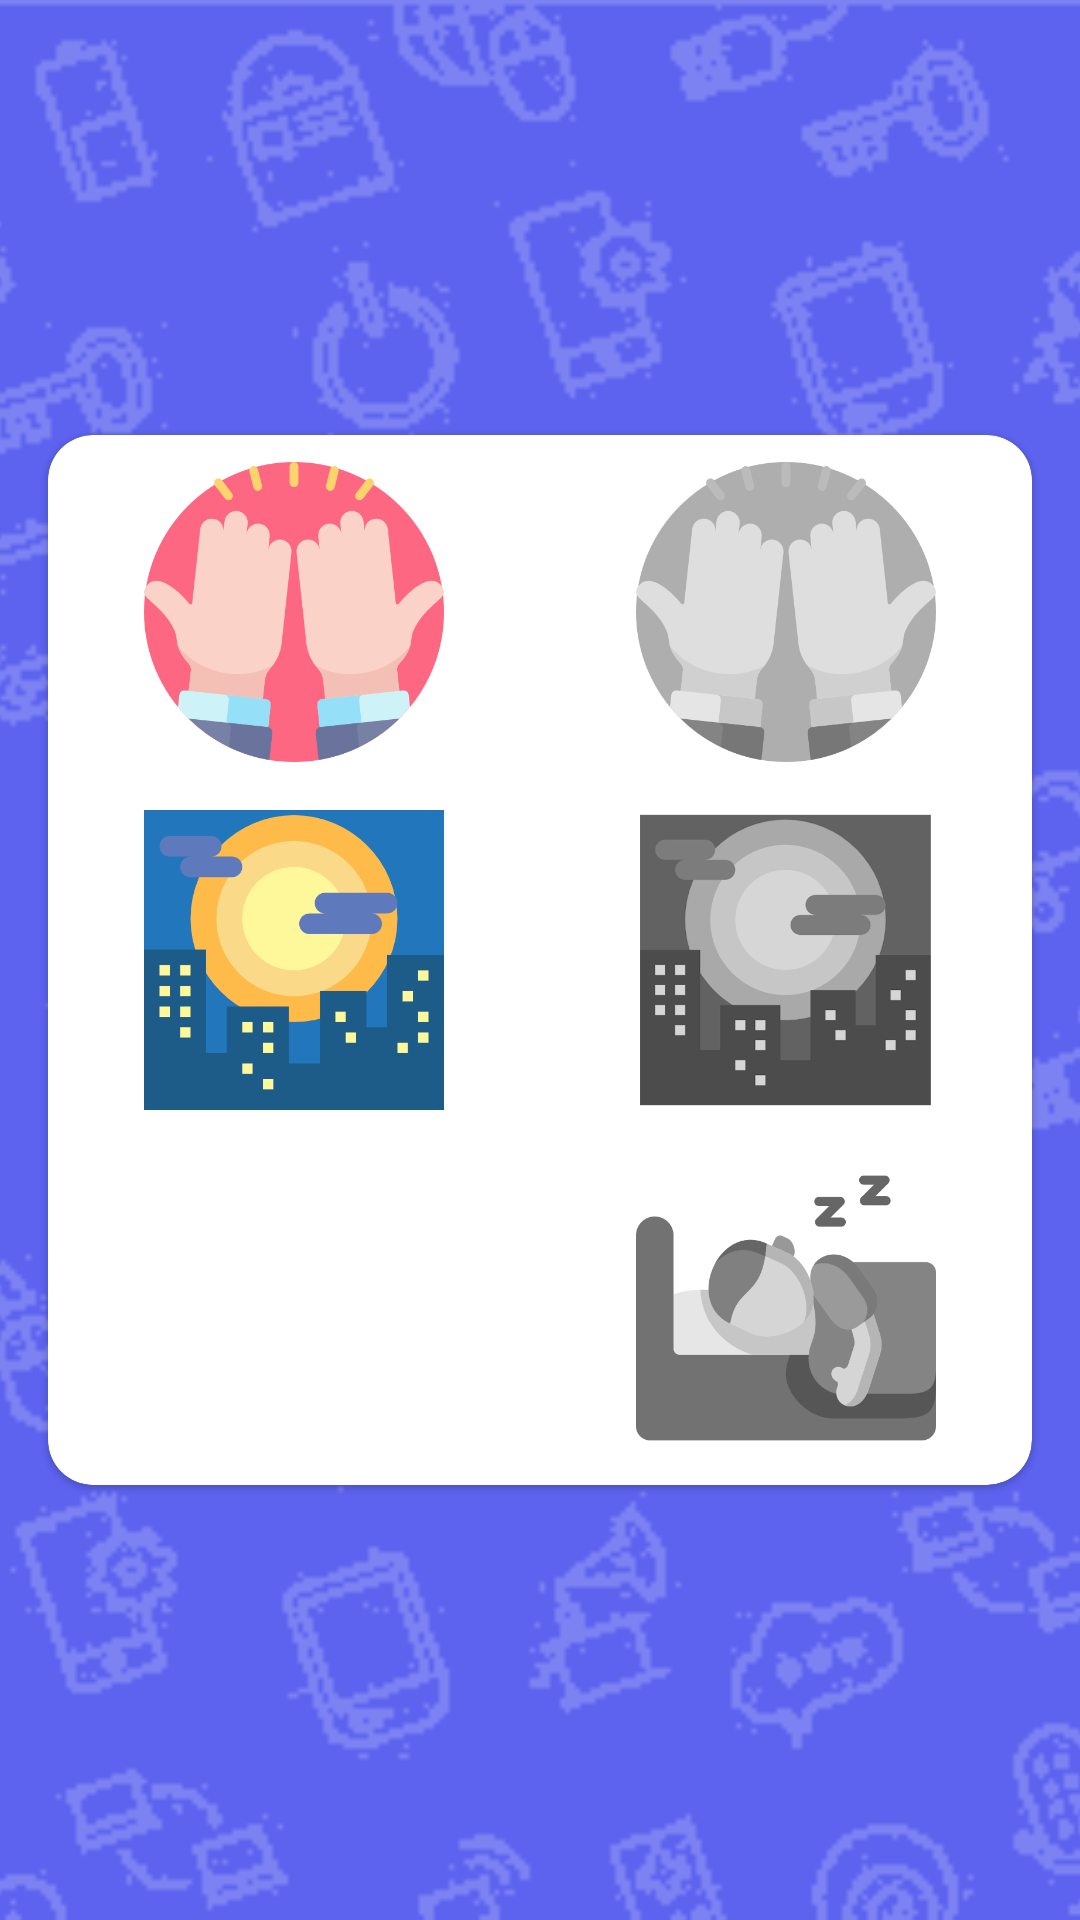

Screen size 1080 x 1920. Icon name, then its center in pixels as (x,y):
night: (294,960)
nigth bw: (785,960)
pray: (294,612)
pray bw: (786,612)
sleeping bw: (786,1308)
